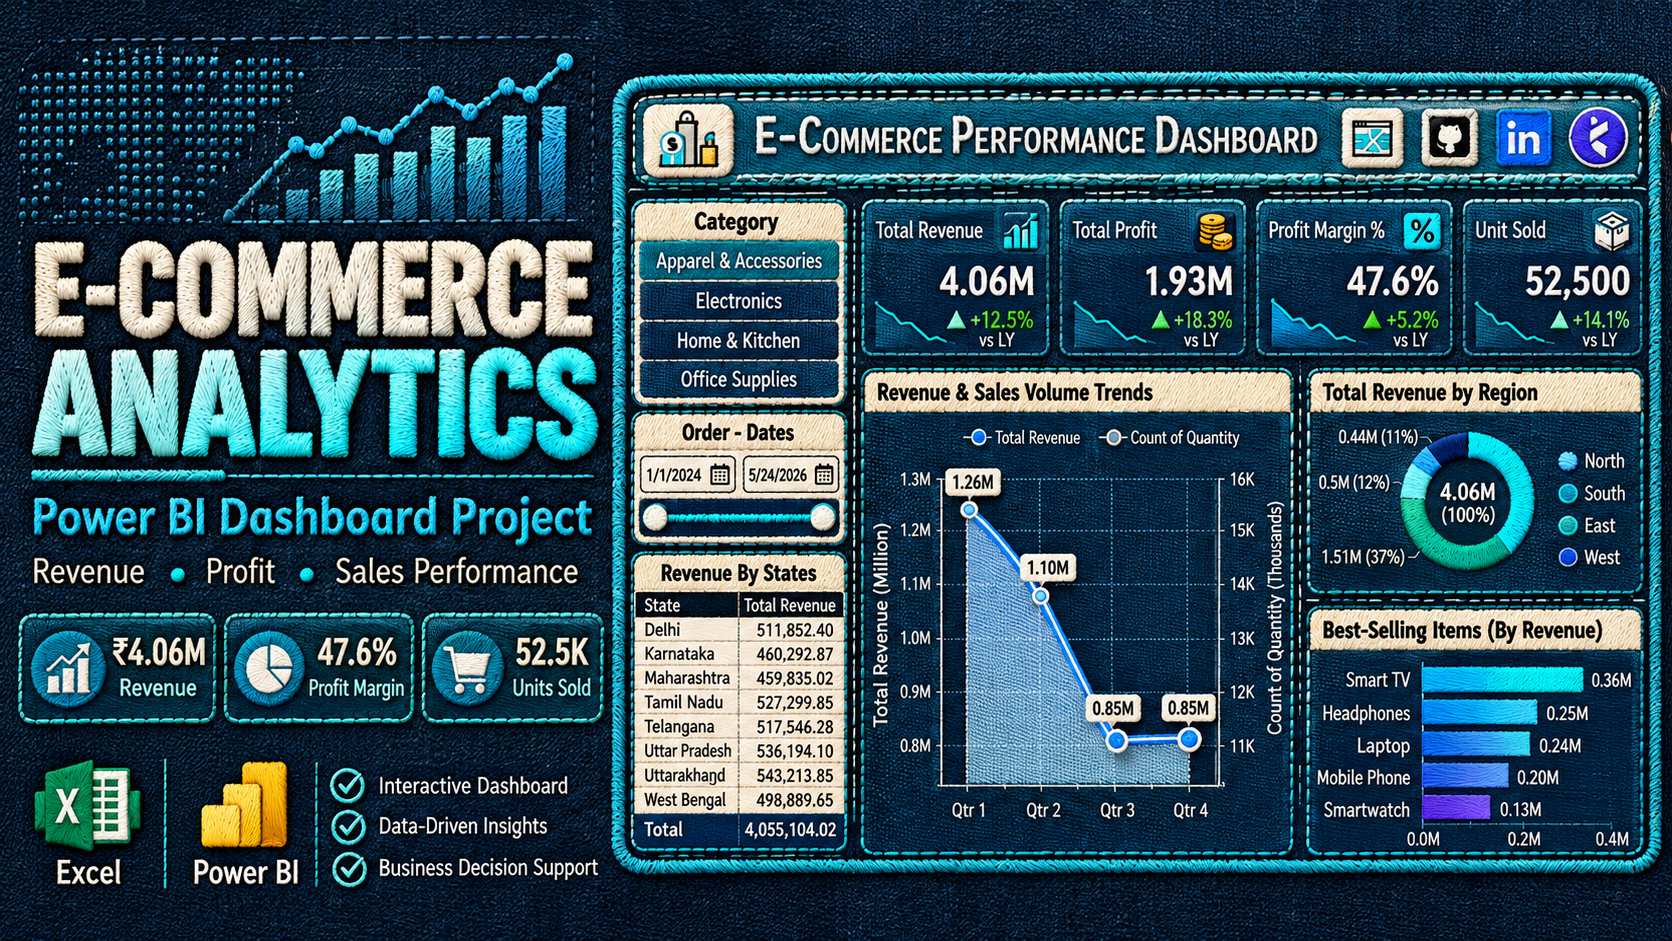

This screenshot's page, from the dashboard's own definition file:
{"tool":"powerbi","page":{"name":"Page 1","canvas":[1280,720],"ordinal":0},"visuals":[{"type":"textbox","box":[848.3,20.2,385.7,67.1],"z":0,"group":"g1"},{"type":"stackedAreaChart","title":"Profit Margin %","fields":{"Y":["Sum(tbl_Orders.Quantity)"],"Category":["tbl_Customers.State"]},"box":[805.5,120,229.1,116.4],"z":1000},{"type":"card","fields":{"Values":["tbl_Orders.Profit Margin %"]},"box":[887.6,174.8,131.8,61.9],"z":2000},{"type":"advancedSlicerVisual","fields":{"Values":["tbl_Products.Category"]},"box":[27.1,128.6,238.6,182.9],"z":3000},{"type":"stackedAreaChart","title":"Total Profit","fields":{"Category":["tbl_Customers.State"],"Y":["Avg(tbl_Orders.Quantity)"]},"box":[555.4,122.4,227.3,110.3],"z":4000},{"type":"stackedAreaChart","title":"Unit Sold","fields":{"Category":["tbl_Customers.State"],"Y":["Avg(tbl_Orders.Quantity)"]},"box":[1052.7,120.9,219.1,110],"z":5000},{"type":"stackedAreaChart","title":"Total Revenue","fields":{"Y":["Sum(tbl_Orders.Quantity)"],"Category":["tbl_Customers.State"]},"box":[299.1,120.9,231.8,117.3],"z":6000},{"type":"card","fields":{"Values":["tbl_Orders.Total Profit"]},"box":[636.1,172.1,131.8,61.9],"z":7000},{"type":"card","fields":{"Values":["tbl_Orders.Total Revenue"]},"box":[385.7,175.7,132.9,61.4],"z":8000},{"type":"card","fields":{"Values":["CountNonNull(tbl_Orders.Quantity)"]},"box":[1101.4,169.4,169.4,61.9],"z":9000},{"type":"image","box":[10,20,60.5,63.3],"z":10000},{"type":"textbox","box":[85.9,17.1,657.1,67.1],"z":11000},{"type":"lineChart","title":"Revenue & Sales Volume Trends","fields":{"Y":["tbl_Orders.Total Revenue"],"Y2":["CountNonNull(tbl_Orders.Quantity)"],"Category":["tbl_Orders.OrderDate.Variation.Date Hierarchy.Quarter","tbl_Orders.OrderDate.Variation.Date Hierarchy.Month"]},"box":[298.6,262.9,521.4,438.6],"z":12000},{"type":"donutChart","title":"Total Revenue by Region","fields":{"Category":["tbl_Customers.Region"],"Y":["tbl_Orders.Total Revenue"]},"box":[859.3,262.2,400.8,207.1],"z":13000},{"type":"image","box":[1000,342.9,62.9,62.9],"z":14000},{"type":"image","box":[471.3,124.7,46,42],"z":15000},{"type":"image","box":[721.8,124.5,45.5,40.9],"z":16000},{"type":"image","box":[1215.7,124.3,45.7,41.4],"z":17000},{"type":"image","box":[974.5,124.5,45.5,40.9],"z":18000},{"type":"clusteredBarChart","title":"Best-Selling Items (By Revenue)","fields":{"Category":["tbl_Products.ProductName"],"Y":["tbl_Orders.Total Revenue"]},"box":[857.1,497.1,404.3,204.3],"z":19000},{"type":"slicer","title":"Order - Dates","fields":{"Values":["tbl_Orders.OrderDate"]},"box":[27.1,318.6,238.6,115.7],"z":20000},{"type":"tableEx","title":"Revenue By States","fields":{"Values":["tbl_Customers.State","tbl_Orders.Total Revenue"]},"box":[27.1,442.9,238.6,255.7],"z":21000},{"type":"image","box":[961.6,28.5,60,51.5],"z":22000,"group":"g1"},{"type":"image","box":[1056.9,28.8,60,51.4],"z":23000,"group":"g1"},{"type":"image","box":[1152.6,28.8,60,51.4],"z":24000,"group":"g1"},{"type":"image","box":[838.5,20,87.7,67.7],"z":25000,"group":"g1"},{"type":"group","id":"g1","title":"Group 1","box":[838.5,20,395.4,67.7],"z":25001}]}

Visuals, with their boxes in screenshot pixels (x1, y1, x2, y2), scaled from the page's 1280x720 canvas onto the 1672x941 screenshot:
textbox: rect(1108, 26, 1612, 114)
"Profit Margin %" stackedAreaChart: rect(1052, 157, 1351, 309)
card - tbl_Orders.Profit Margin %: rect(1159, 228, 1332, 309)
advancedSlicerVisual - tbl_Products.Category: rect(35, 168, 347, 407)
"Total Profit" stackedAreaChart: rect(725, 160, 1022, 304)
"Unit Sold" stackedAreaChart: rect(1375, 158, 1661, 302)
"Total Revenue" stackedAreaChart: rect(391, 158, 693, 311)
card - tbl_Orders.Total Profit: rect(831, 225, 1003, 306)
card - tbl_Orders.Total Revenue: rect(504, 230, 677, 310)
card - CountNonNull(tbl_Orders.Quantity): rect(1439, 221, 1660, 302)
image: rect(13, 26, 92, 109)
textbox: rect(112, 22, 971, 110)
"Revenue & Sales Volume Trends" lineChart: rect(390, 344, 1071, 917)
"Total Revenue by Region" donutChart: rect(1122, 343, 1646, 613)
image: rect(1306, 448, 1388, 530)
image: rect(616, 163, 676, 218)
image: rect(943, 163, 1002, 216)
image: rect(1588, 162, 1648, 217)
image: rect(1273, 163, 1332, 216)
"Best-Selling Items (By Revenue)" clusteredBarChart: rect(1120, 650, 1648, 917)
"Order - Dates" slicer: rect(35, 416, 347, 568)
"Revenue By States" tableEx: rect(35, 579, 347, 913)
image: rect(1256, 37, 1334, 105)
image: rect(1381, 38, 1459, 105)
image: rect(1506, 38, 1584, 105)
image: rect(1095, 26, 1210, 115)
"Group 1" group: rect(1095, 26, 1612, 115)
